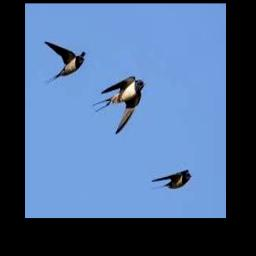Swallow: (91, 76, 144, 133), (44, 41, 85, 85), (151, 170, 191, 190)
